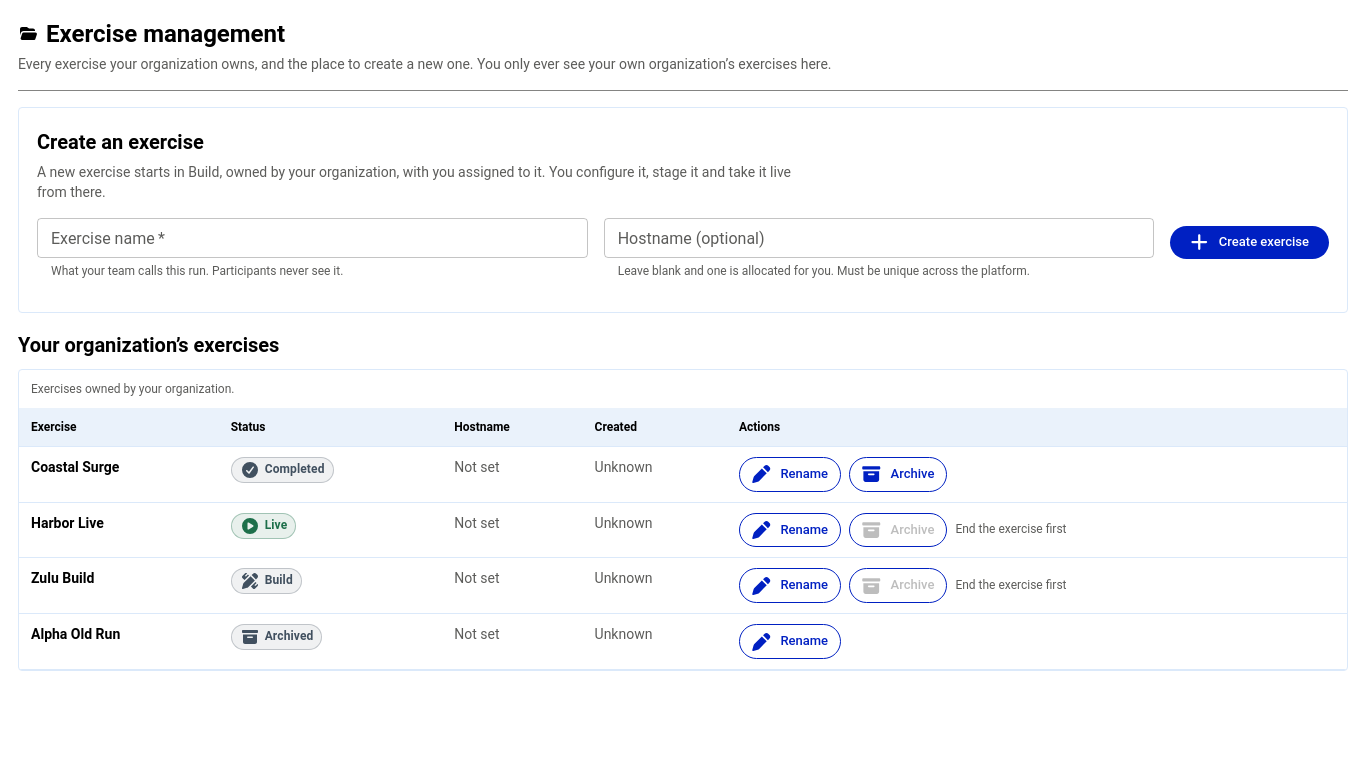
the Rename dialog › opens on the current name, submits the trimmed new one, closes, and the table re-reads
Expected: the table with test id "org-exercise-table" is shown, [19,370,1347,670]
Click the button "Rename" in the row of "Harbor Live" at (790, 530), box [739,513,841,548]
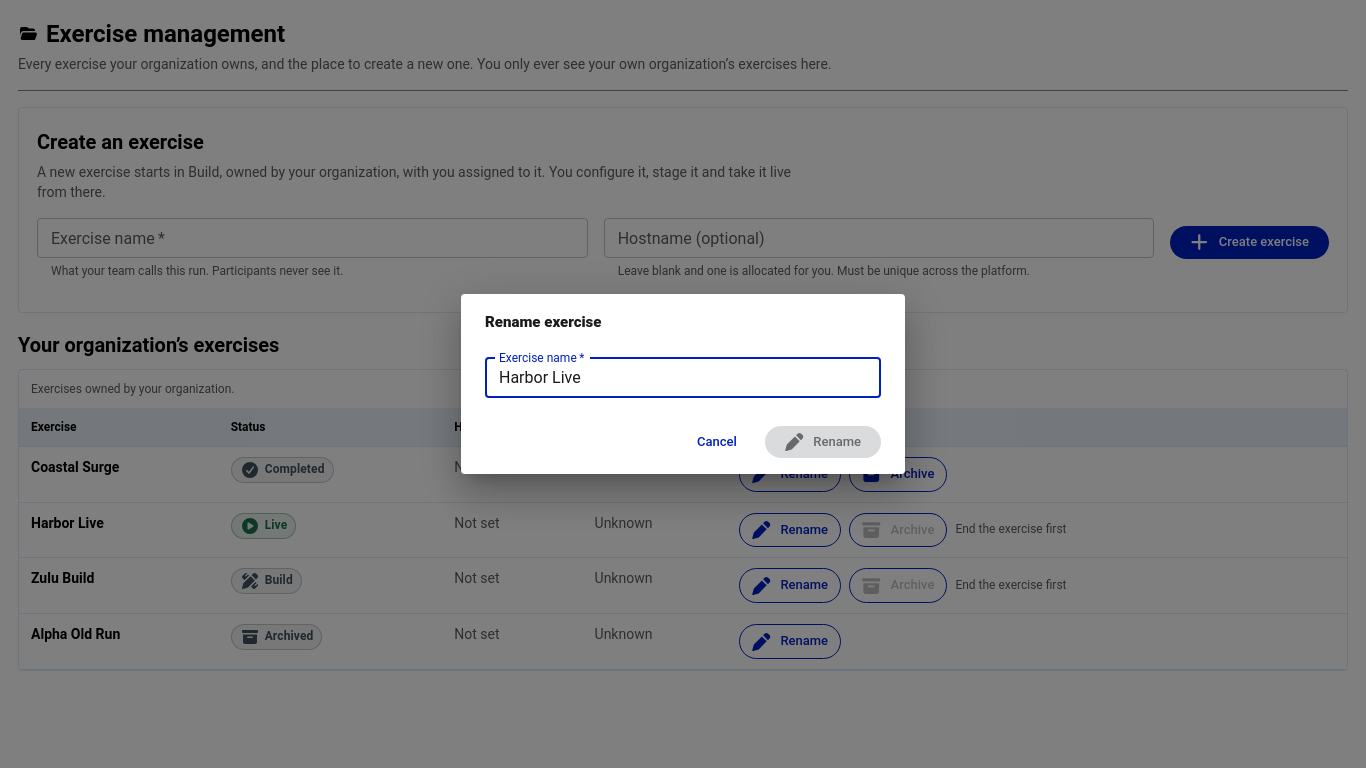
Expected: the field with test id "rename-exercise-input" holds "Harbor Live"
Expected: the button with test id "rename-exercise-confirm" is disabled, [765,426,881,458]
Replace the text in the field with test id "rename-exercise-input" with "  Harbor Live Two " at (683, 378), box [485,358,881,398]
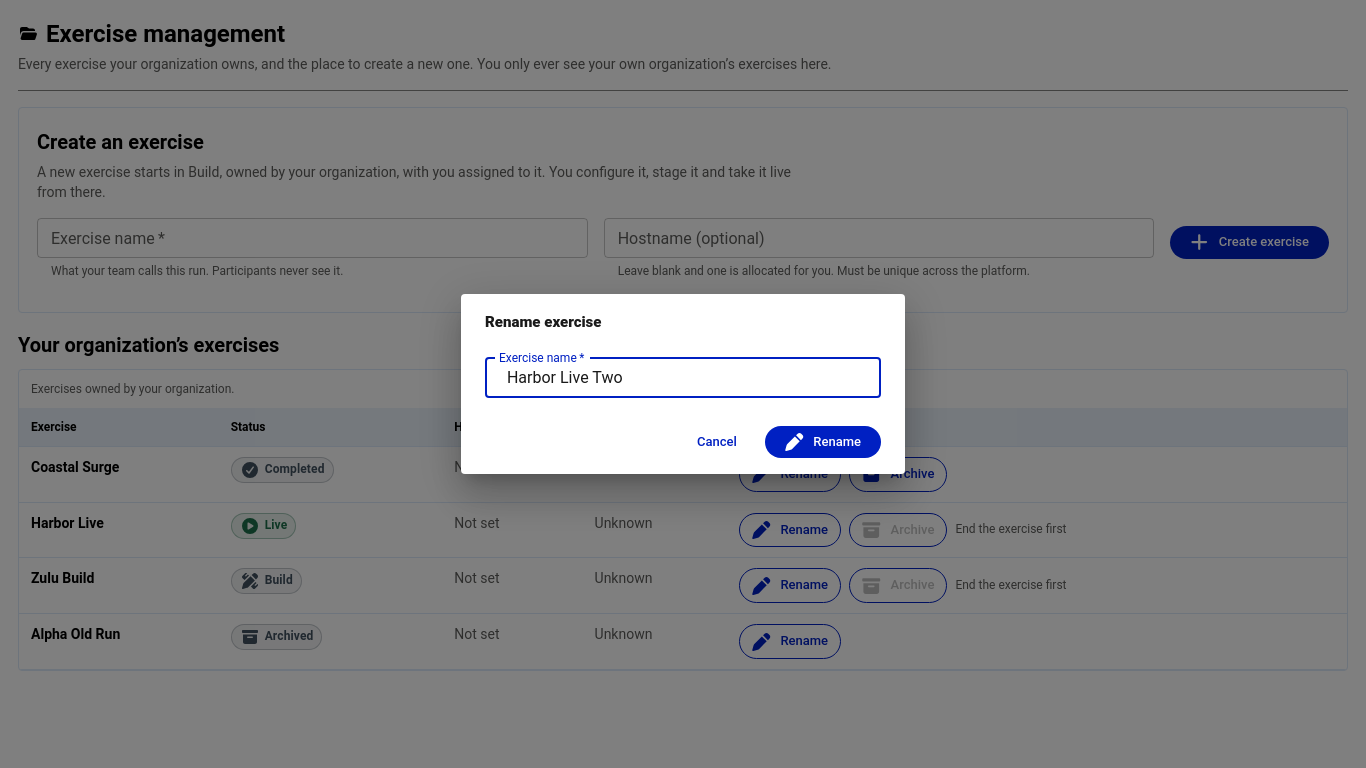
Click the button with test id "rename-exercise-confirm" at (823, 442), box [765,426,881,458]
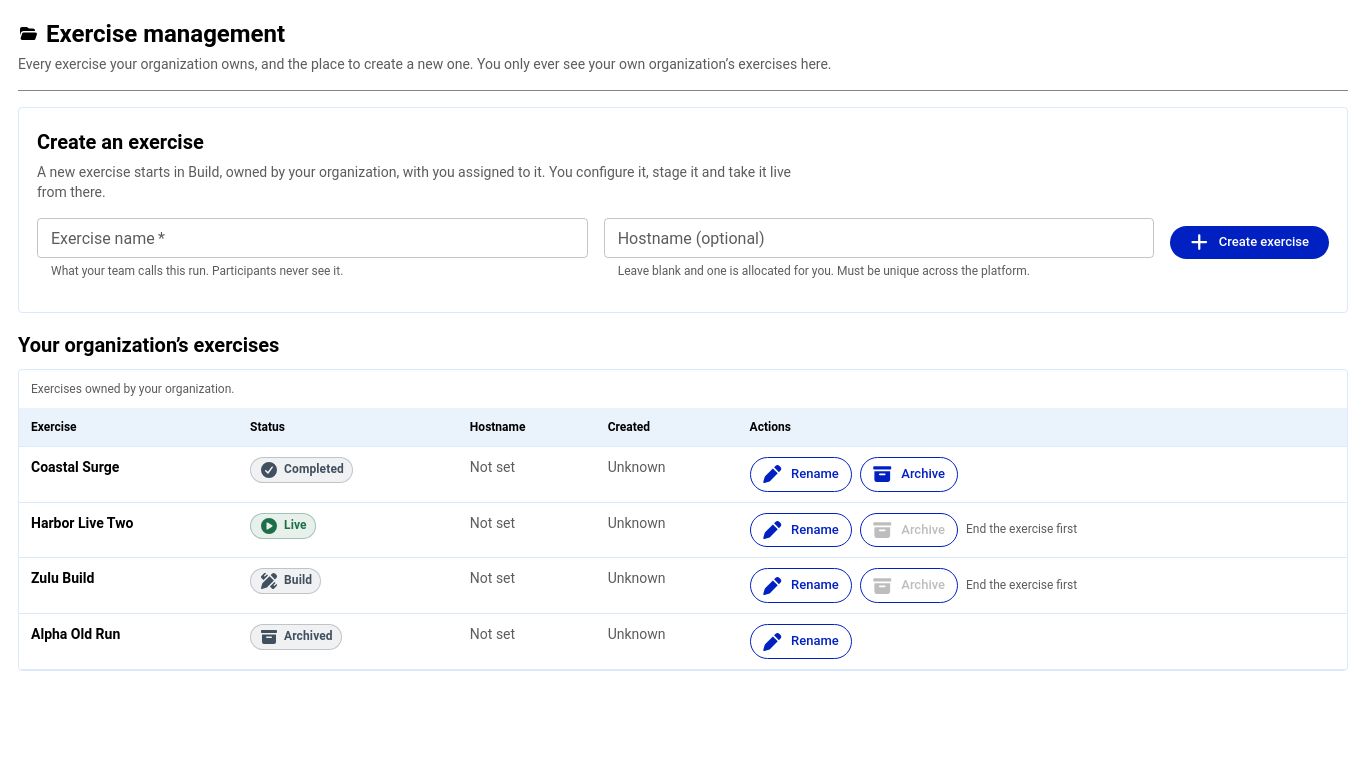
Expected: the element with test id "rename-exercise-dialog" is gone
Expected: the text "Harbor Live Two" is shown, [31,515,133,531]
